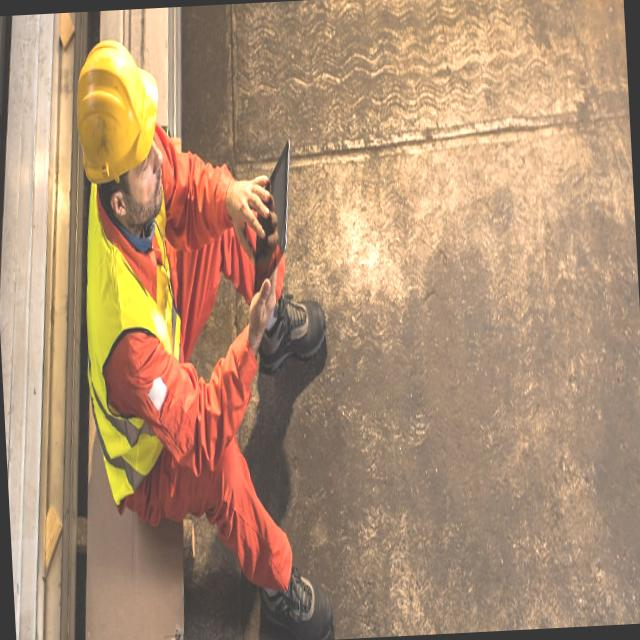helmet: (72, 36, 164, 186)
no-goggles: (109, 138, 161, 207)
vest: (78, 172, 192, 515)
